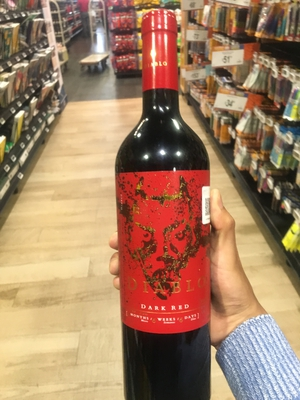diablo dark red: (99, 18, 238, 400)
